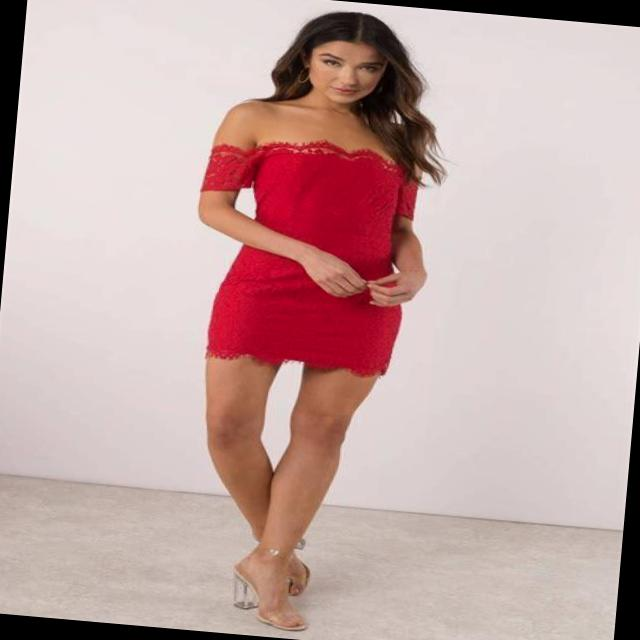dress: (182, 132, 422, 380)
